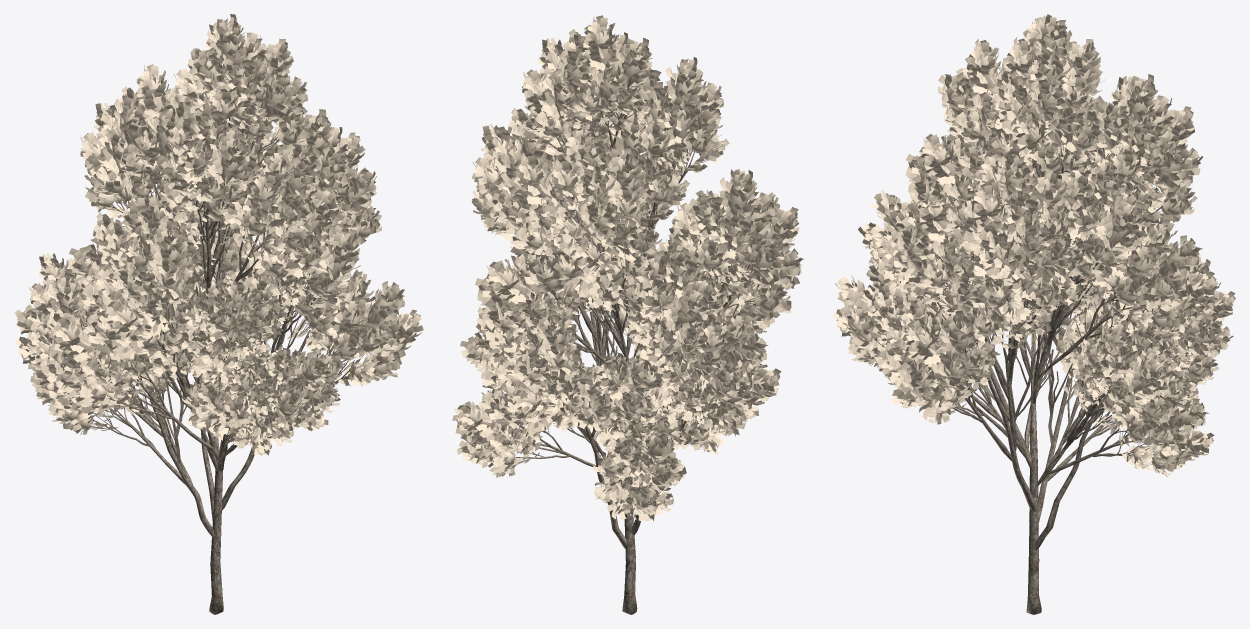
File: Urban Tree.fbx
The picture shows the model from 3 angles, left to right: view 1: azimuth 30°, elevation 25°; view 2: azimuth 150°, elevation 25°; view 3: azimuth 270°, elevation 25°; orthographic projection. The views are drawn at different scales.
Visible parts, largest first — view 1: Mesh; view 2: Mesh; view 3: Mesh.
Boxes of the visible parts, x1,y1,x2,y2 form: Mesh: [14, 14, 423, 614]; Mesh: [452, 15, 803, 614]; Mesh: [833, 14, 1235, 614].
Bounding box in the file's own units: 319 × 577 × 345.
